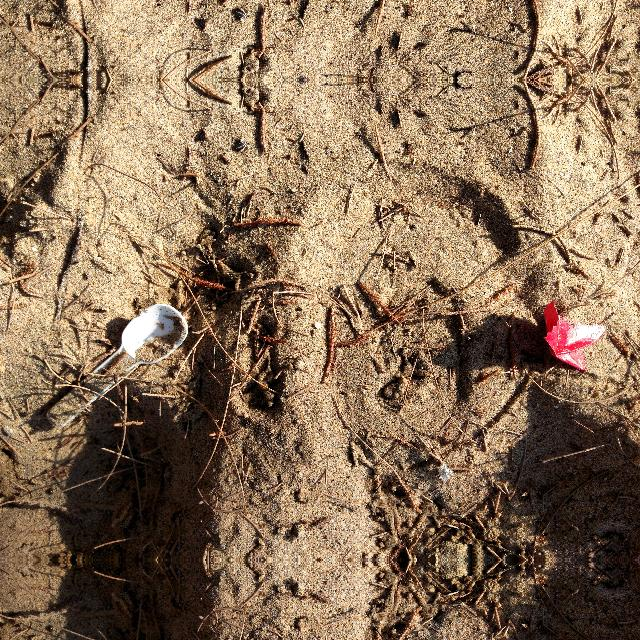Plastic: (32, 297, 200, 433), (528, 288, 620, 387)
